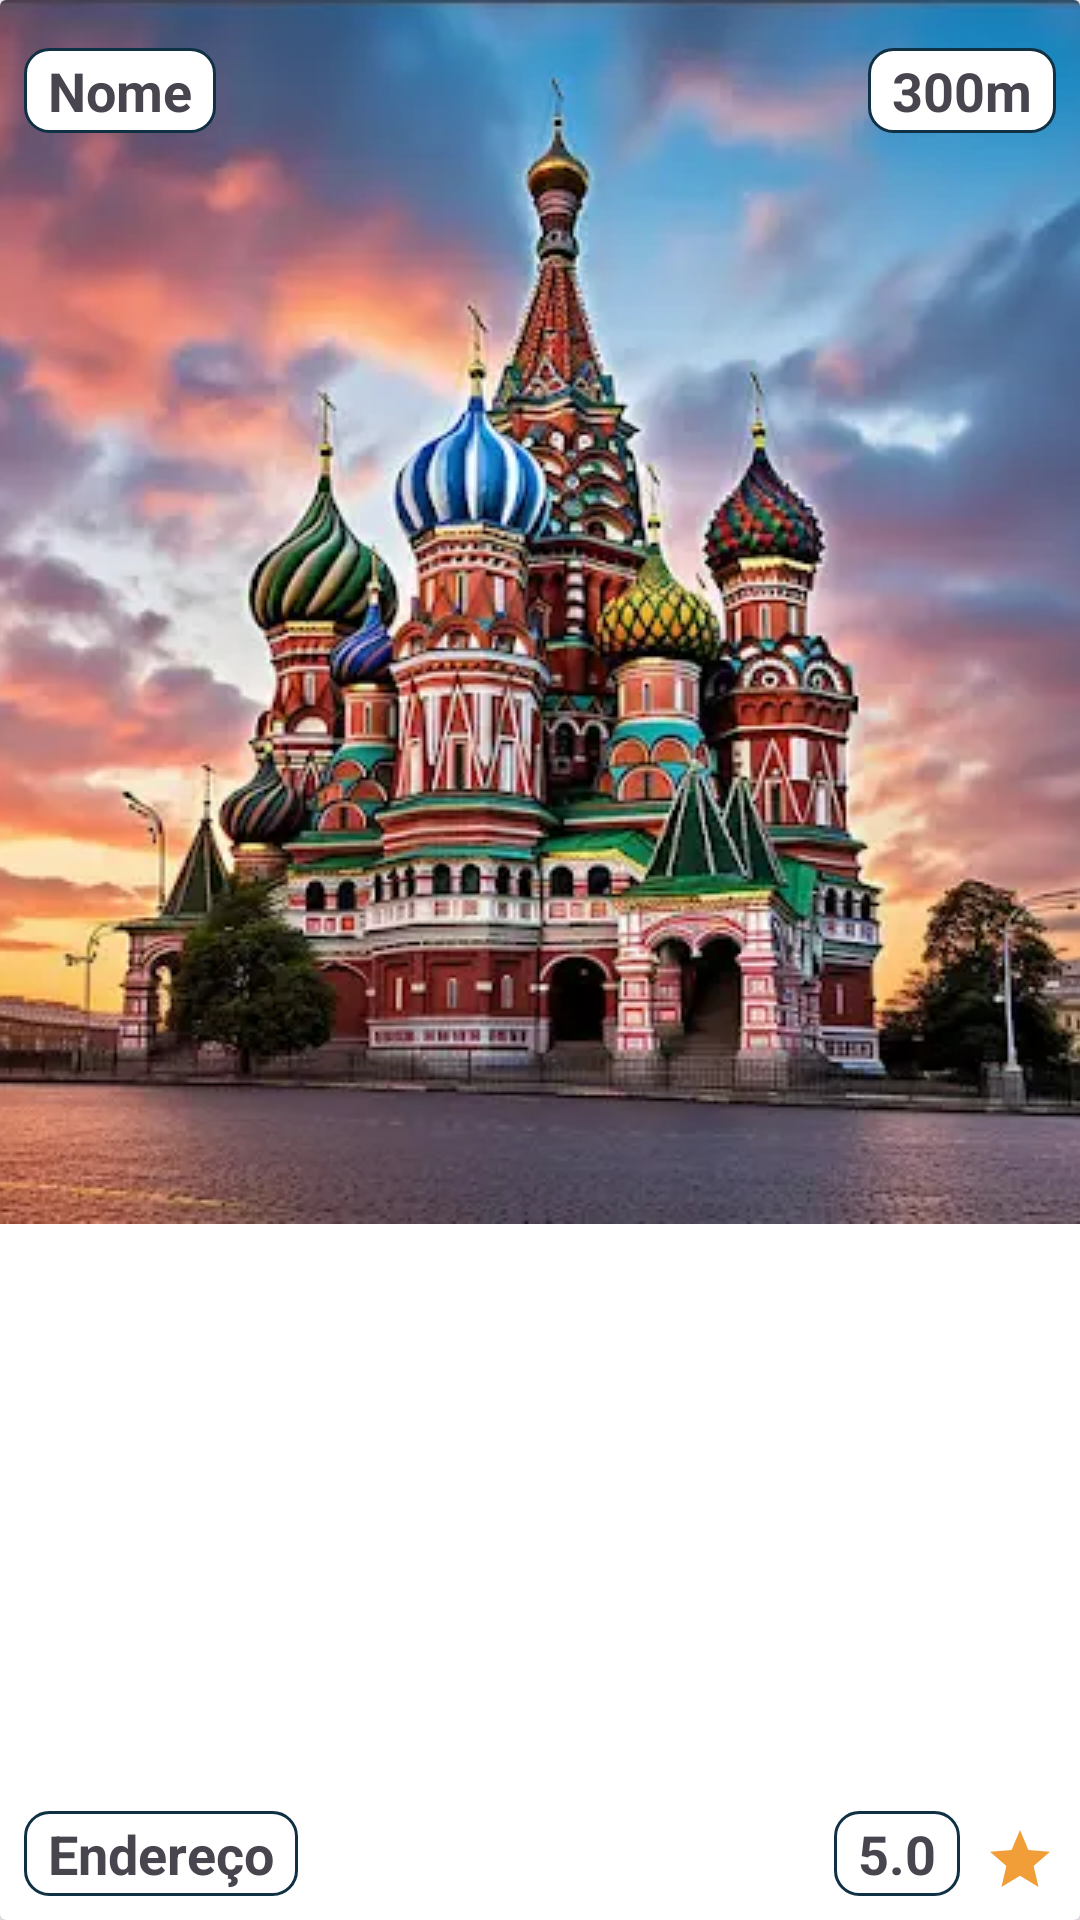

Screen size 1080 x 1920. Icon name, then its box in pixels as {"x1": x1, "y1": y1, "x2": x2, "y2": y2}:
star: {"x1": 990, "y1": 1830, "x2": 1050, "y2": 1887}
